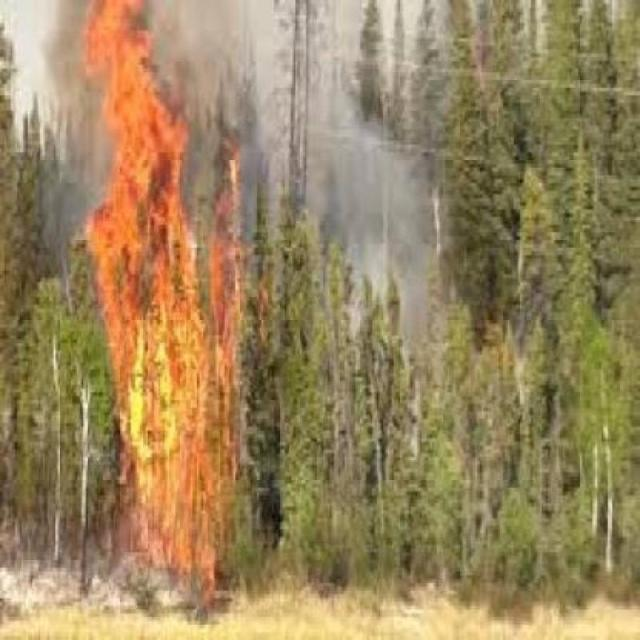Fire: (58, 0, 252, 640)
Smoke: (258, 0, 444, 363)
